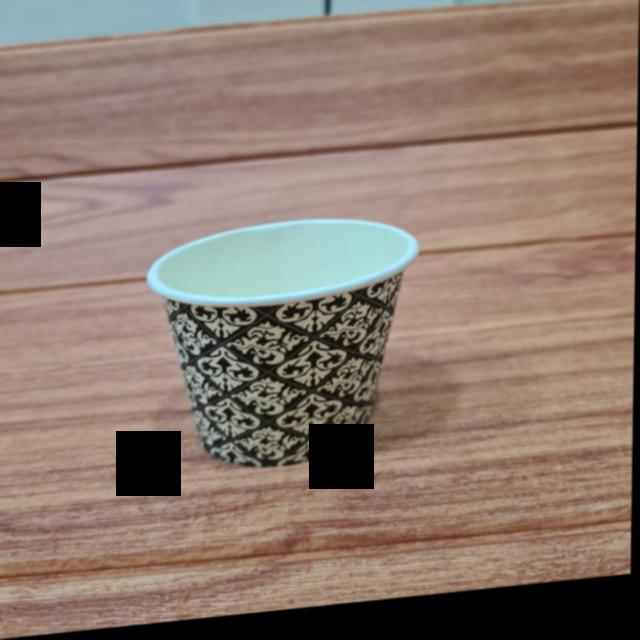cups: (147, 214, 433, 473)
